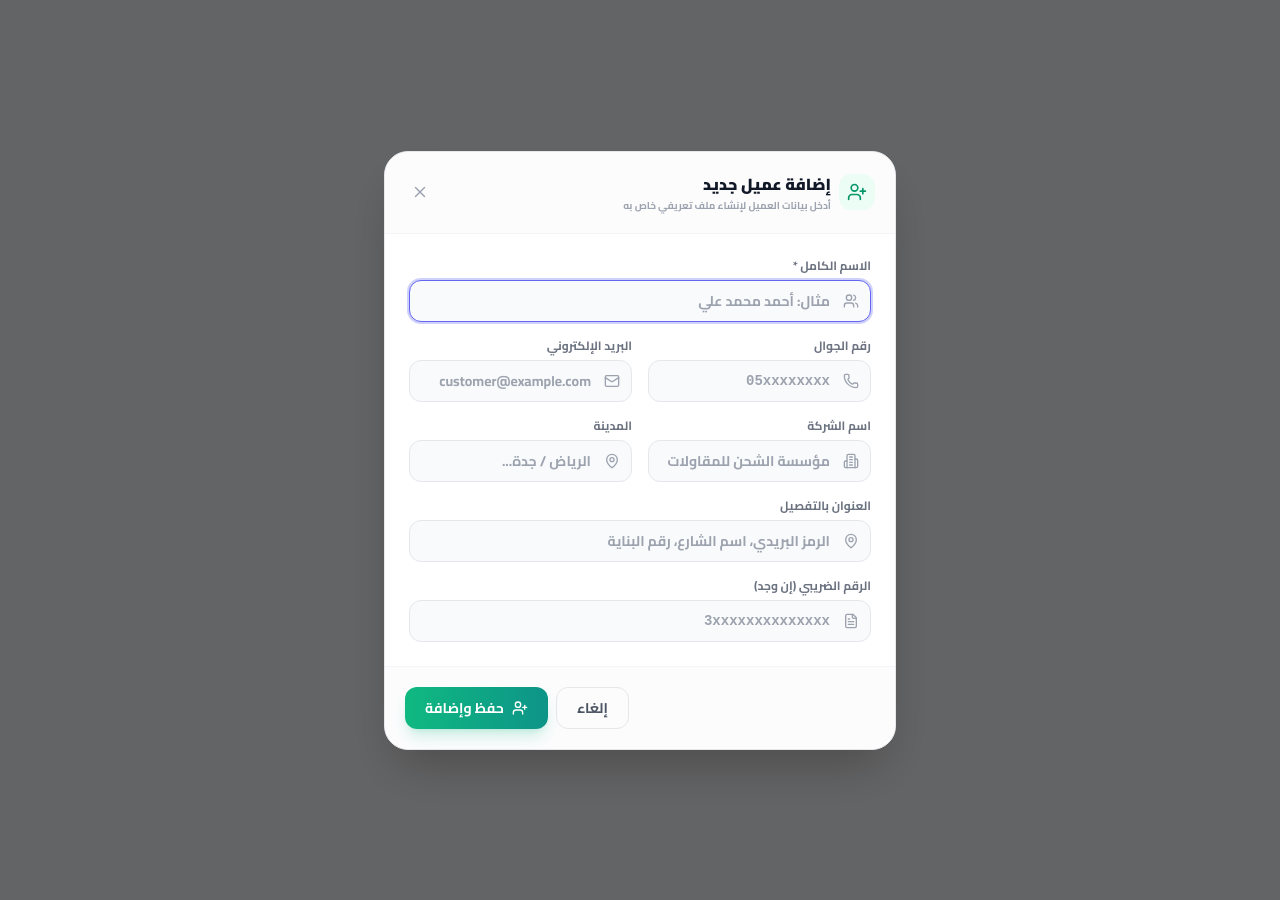
Test: QuickAddCustomerModal — the shared «إضافة عميل جديد» form › a failure keeps the dialog and the typed values; nothing is handed back
Step 1. Type "شركة النخبة" into the field with placeholder "مثال: أحمد محمد علي" → (640, 300), box [409, 280, 871, 322]
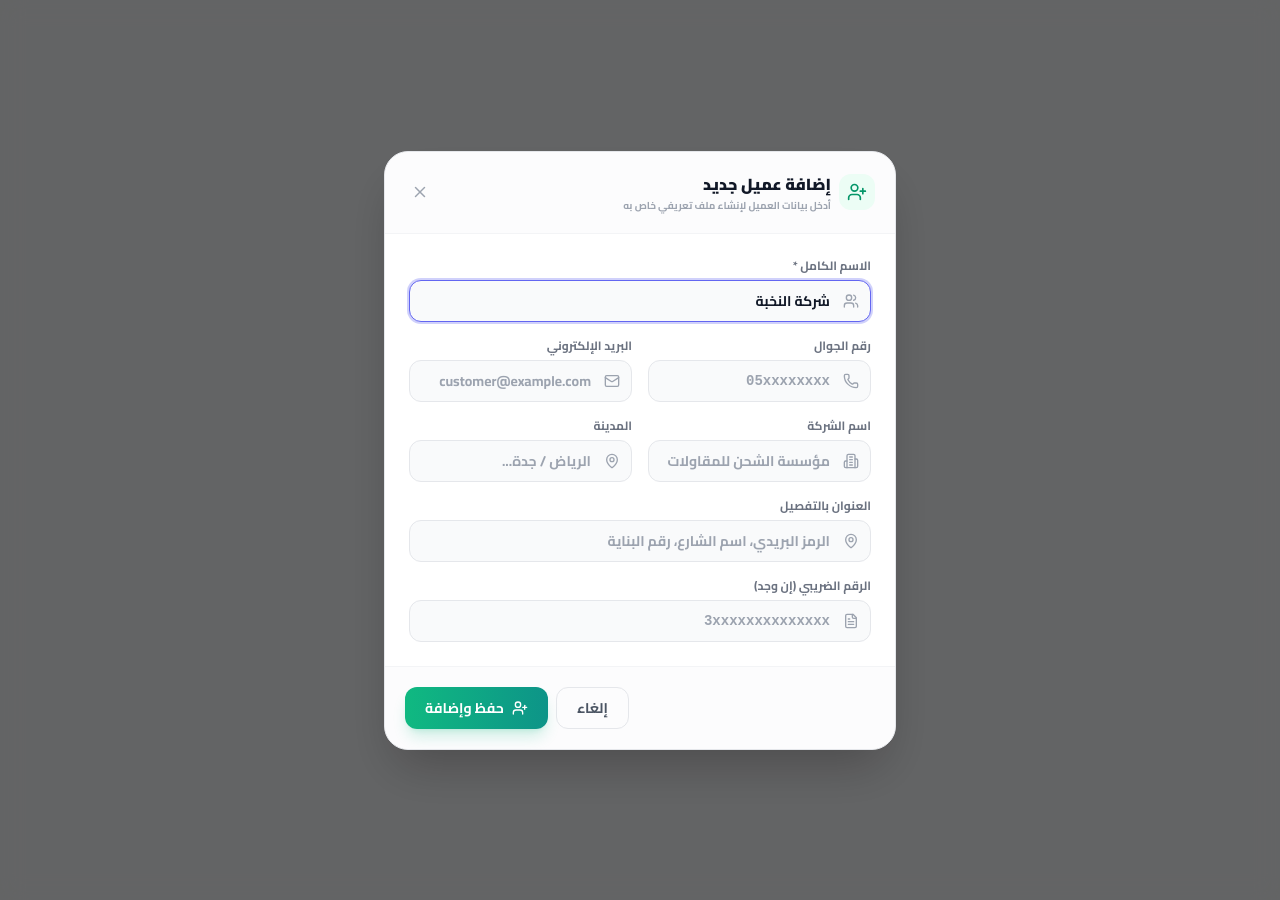
Step 2. Type "0551112222" into the field with placeholder "05xxxxxxxx" → (760, 380), box [648, 360, 871, 402]
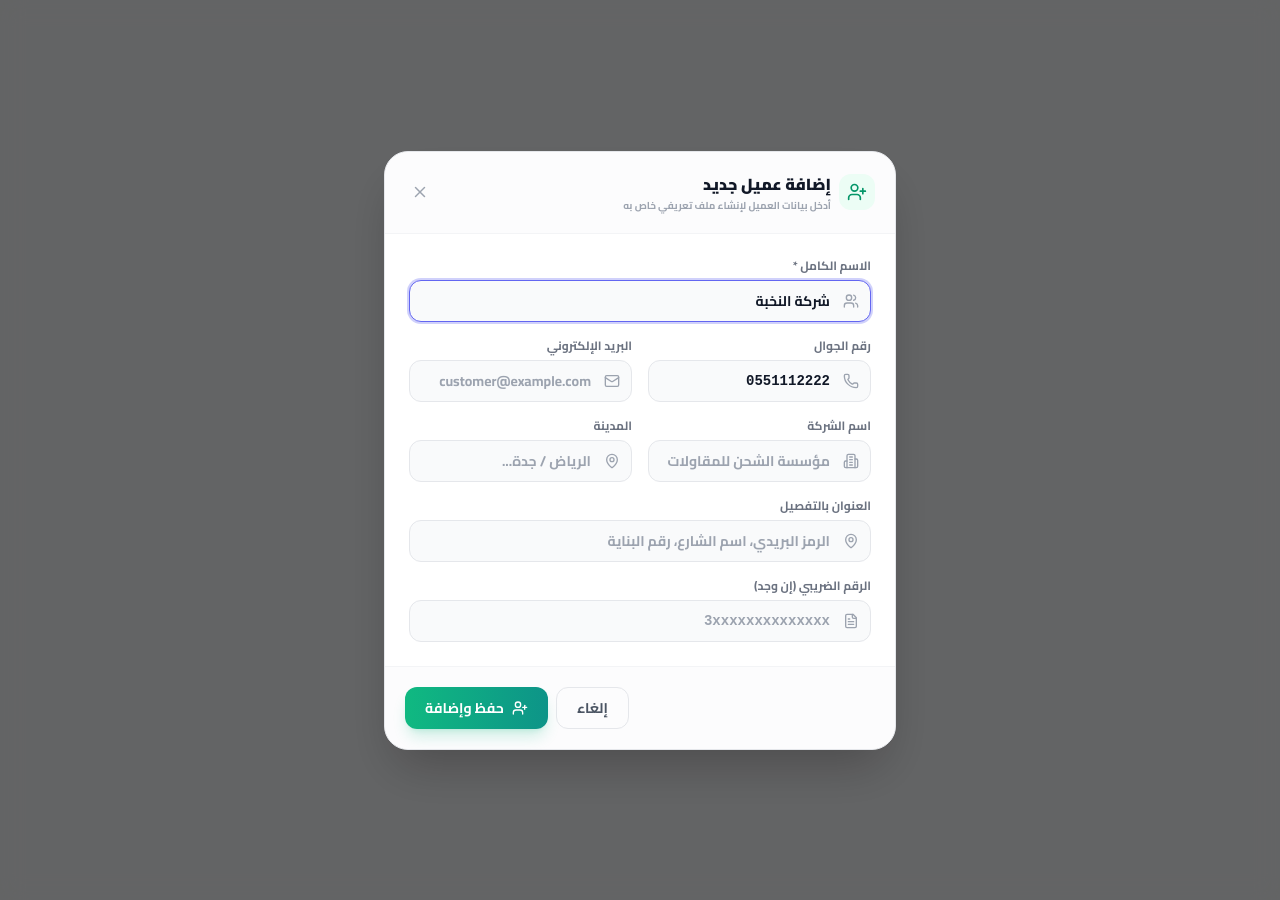
Step 3. Click the button "حفظ وإضافة" → (476, 708), box [405, 686, 548, 728]
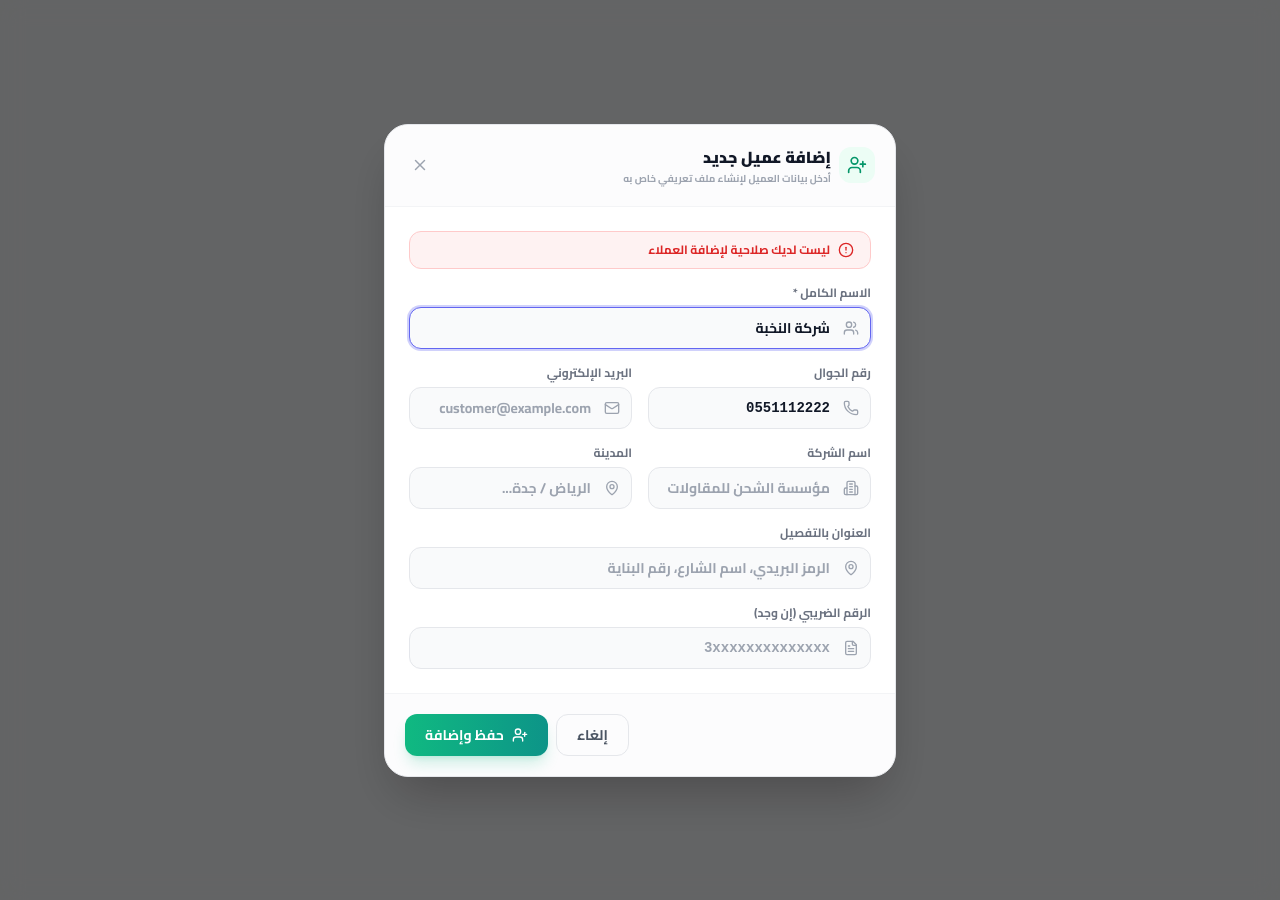
expect the message reads "ليست لديك صلاحية لإضافة العملاء": met, box [648, 238, 830, 260]
Step 4. Click the button "حفظ وإضافة" → (476, 734), box [405, 714, 548, 756]
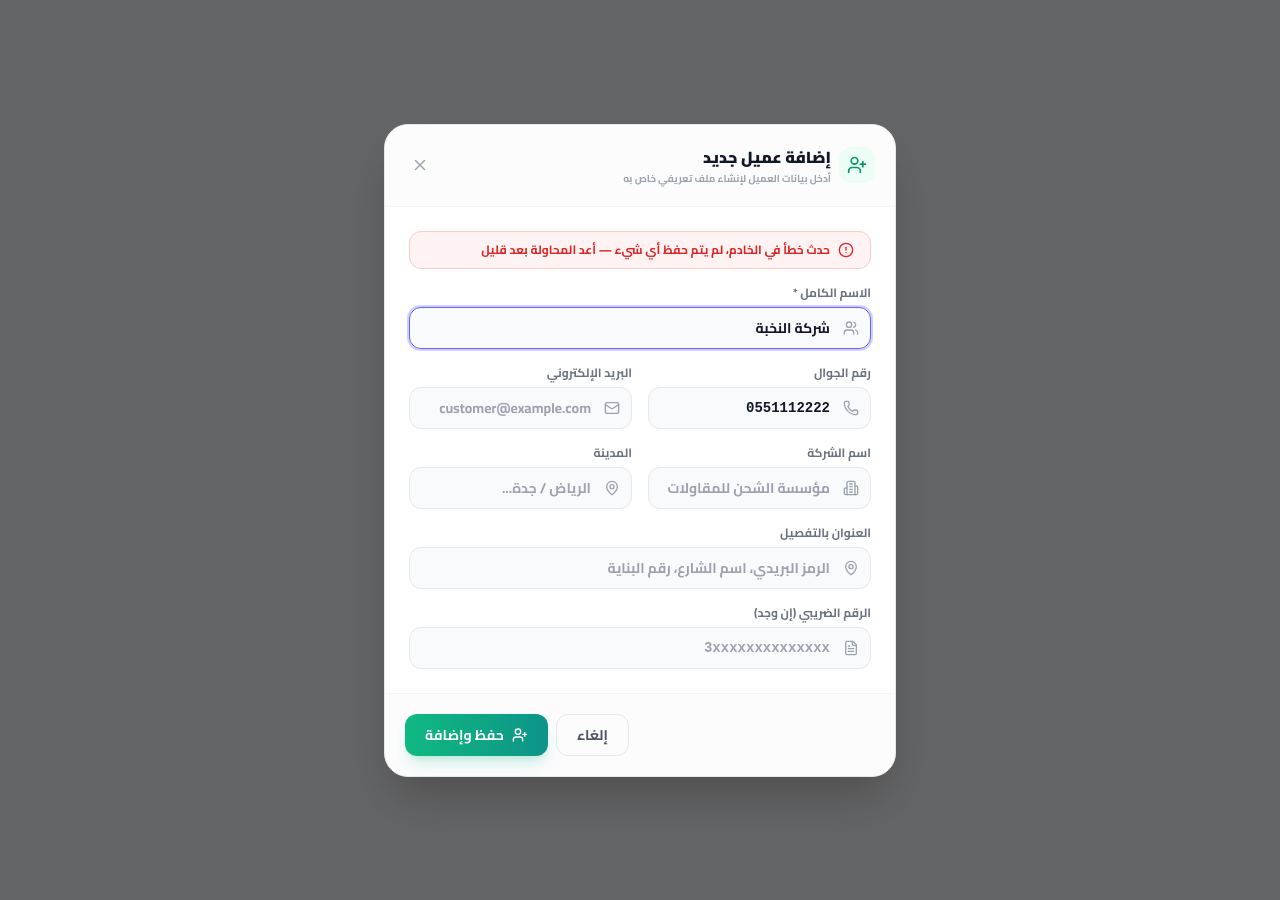
expect the message shows "حدث خطأ في الخادم": met, box [481, 238, 830, 260]
